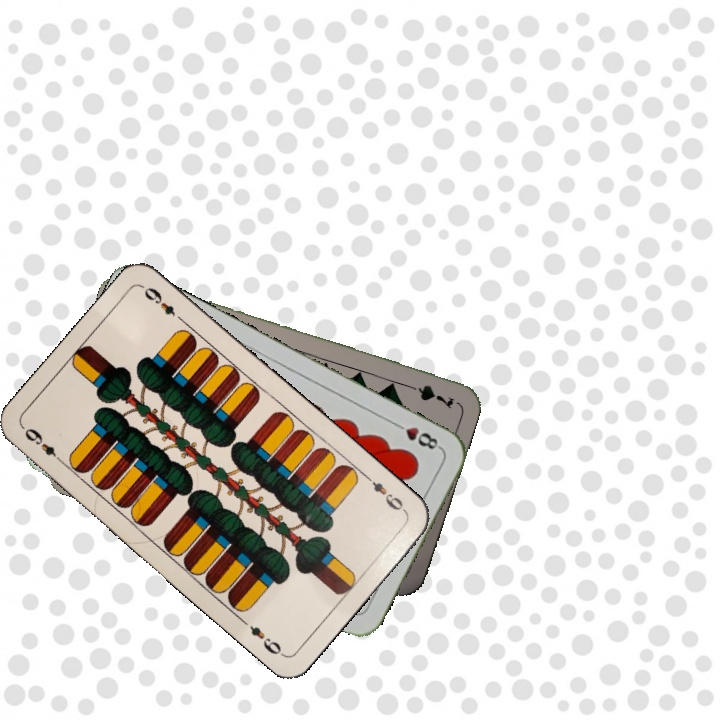E9: (361, 471, 409, 515), (20, 424, 67, 468)
G7: (399, 379, 457, 409)
H8: (389, 418, 444, 452)
